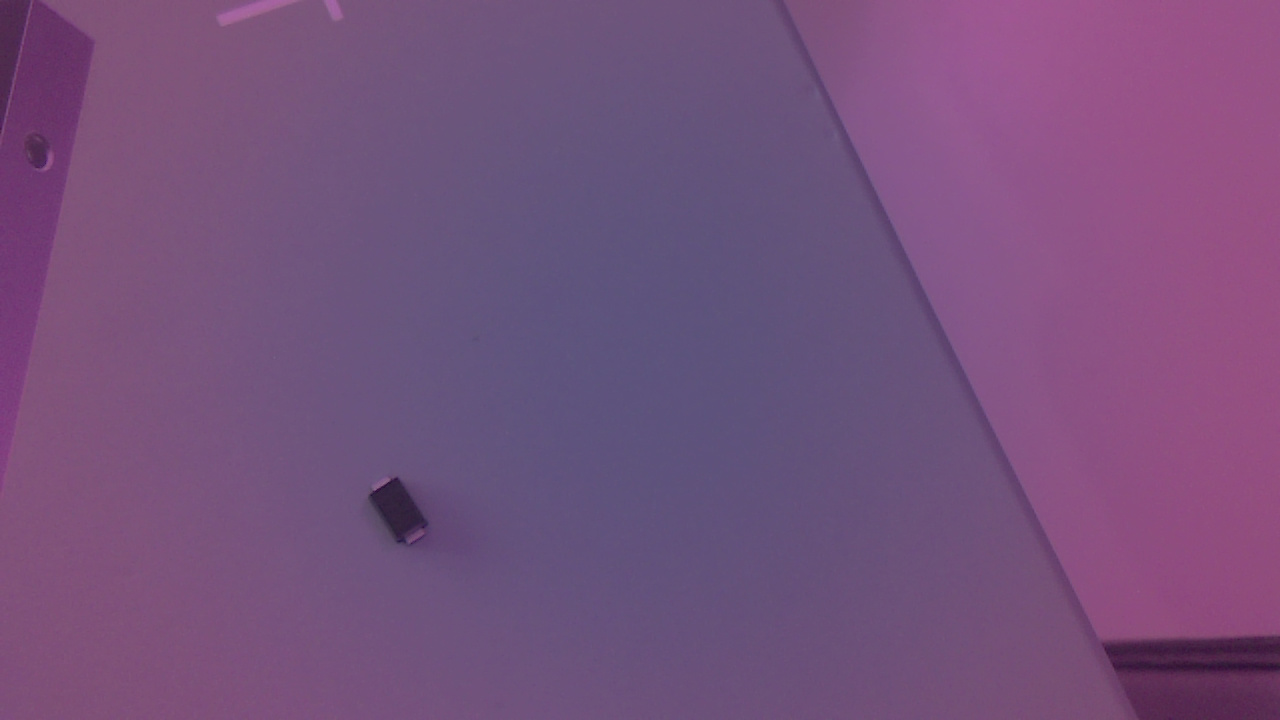Diode: (367, 475, 446, 556)
